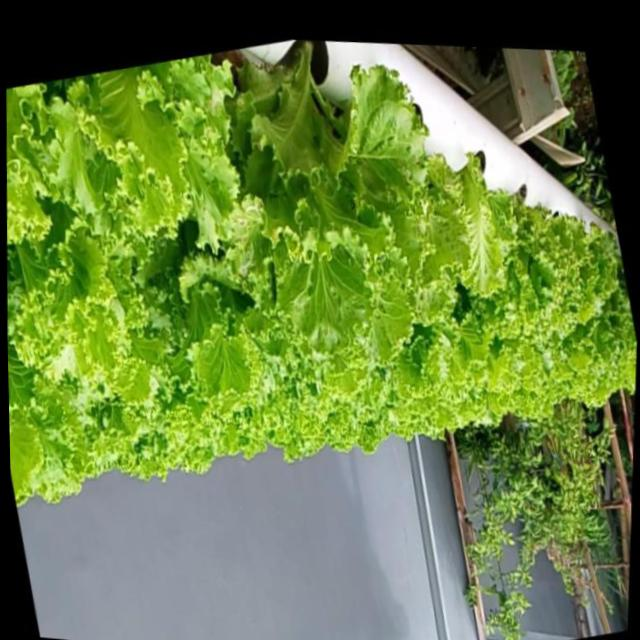Mature: (221, 40, 465, 366), (478, 195, 595, 354)
